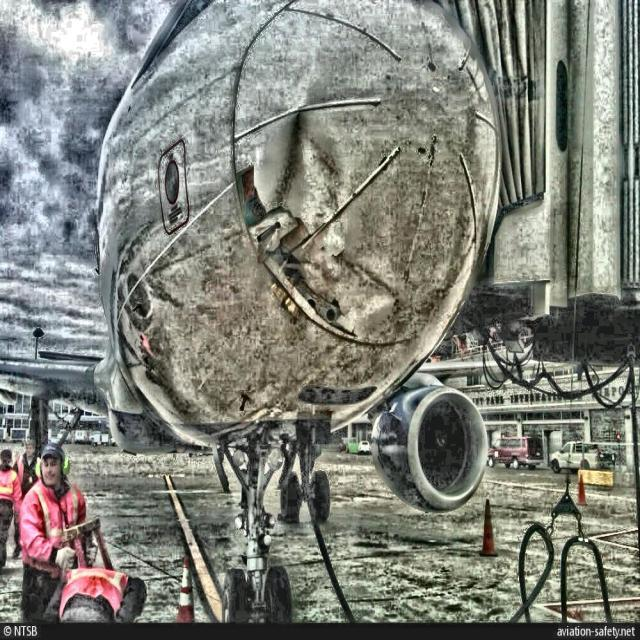dent: (268, 106, 351, 224)
